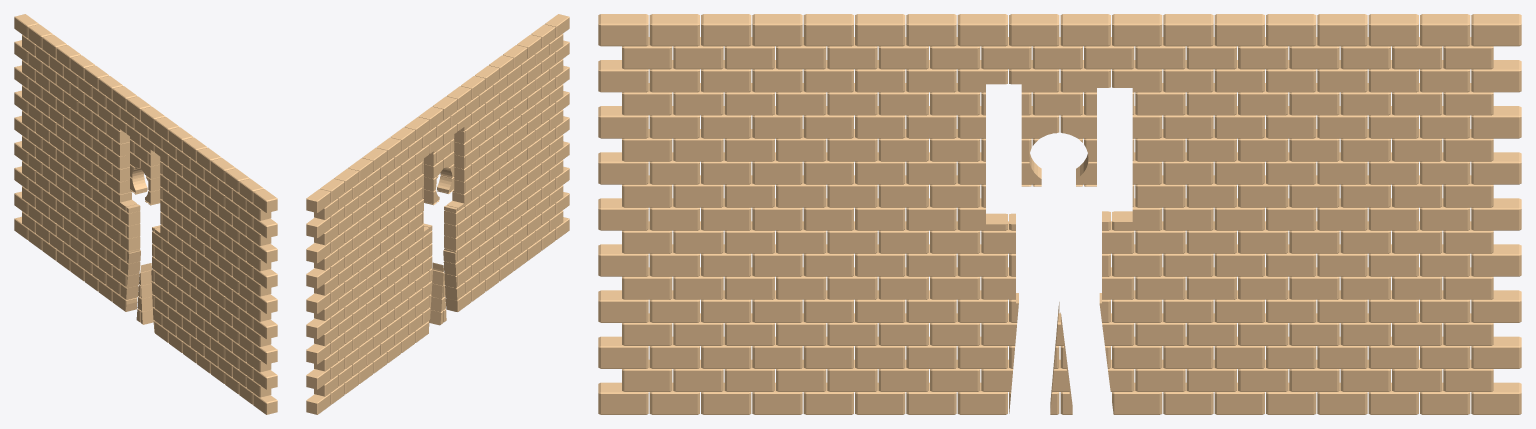
The model's file is iposewall.fbx.
3 views of the same model, side by side, from view 1: azimuth 30°, elevation 25°; view 2: azimuth 150°, elevation 25°; view 3: azimuth 270°, elevation 25° (orthographic). The views are drawn at different scales.
Visible parts, largest first — view 1: RudolphBrick; view 2: RudolphBrick; view 3: RudolphBrick.
Boxes of the visible parts, box(x1,y1,x2,y2) form: RudolphBrick: box(14, 14, 277, 414); RudolphBrick: box(306, 14, 569, 414); RudolphBrick: box(598, 14, 1521, 414).
Size of the model in its own units: 27.26 by 468 by 1000.
